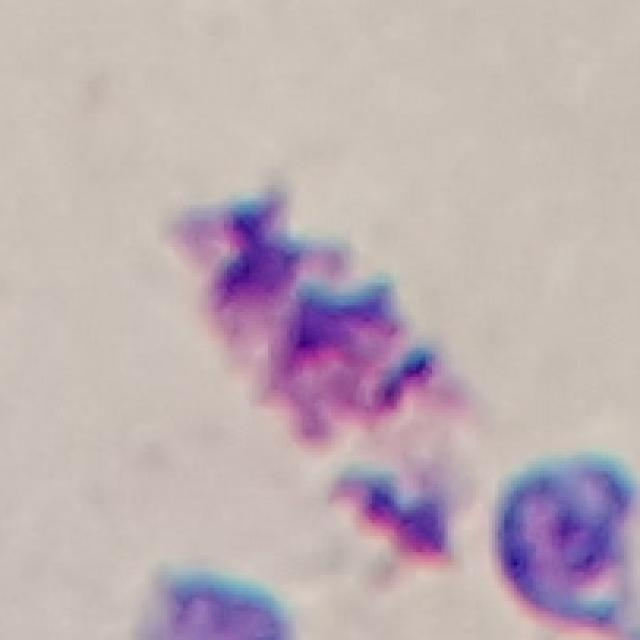non-sperm: (192, 193, 453, 563)
